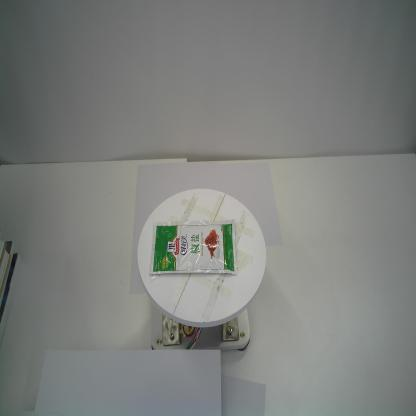Seasoner: (149, 218, 238, 276)
